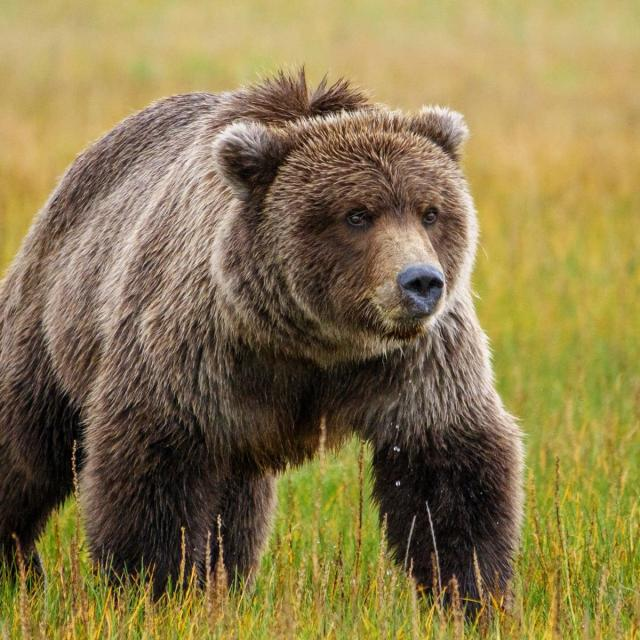Bear: (0, 69, 525, 615)
